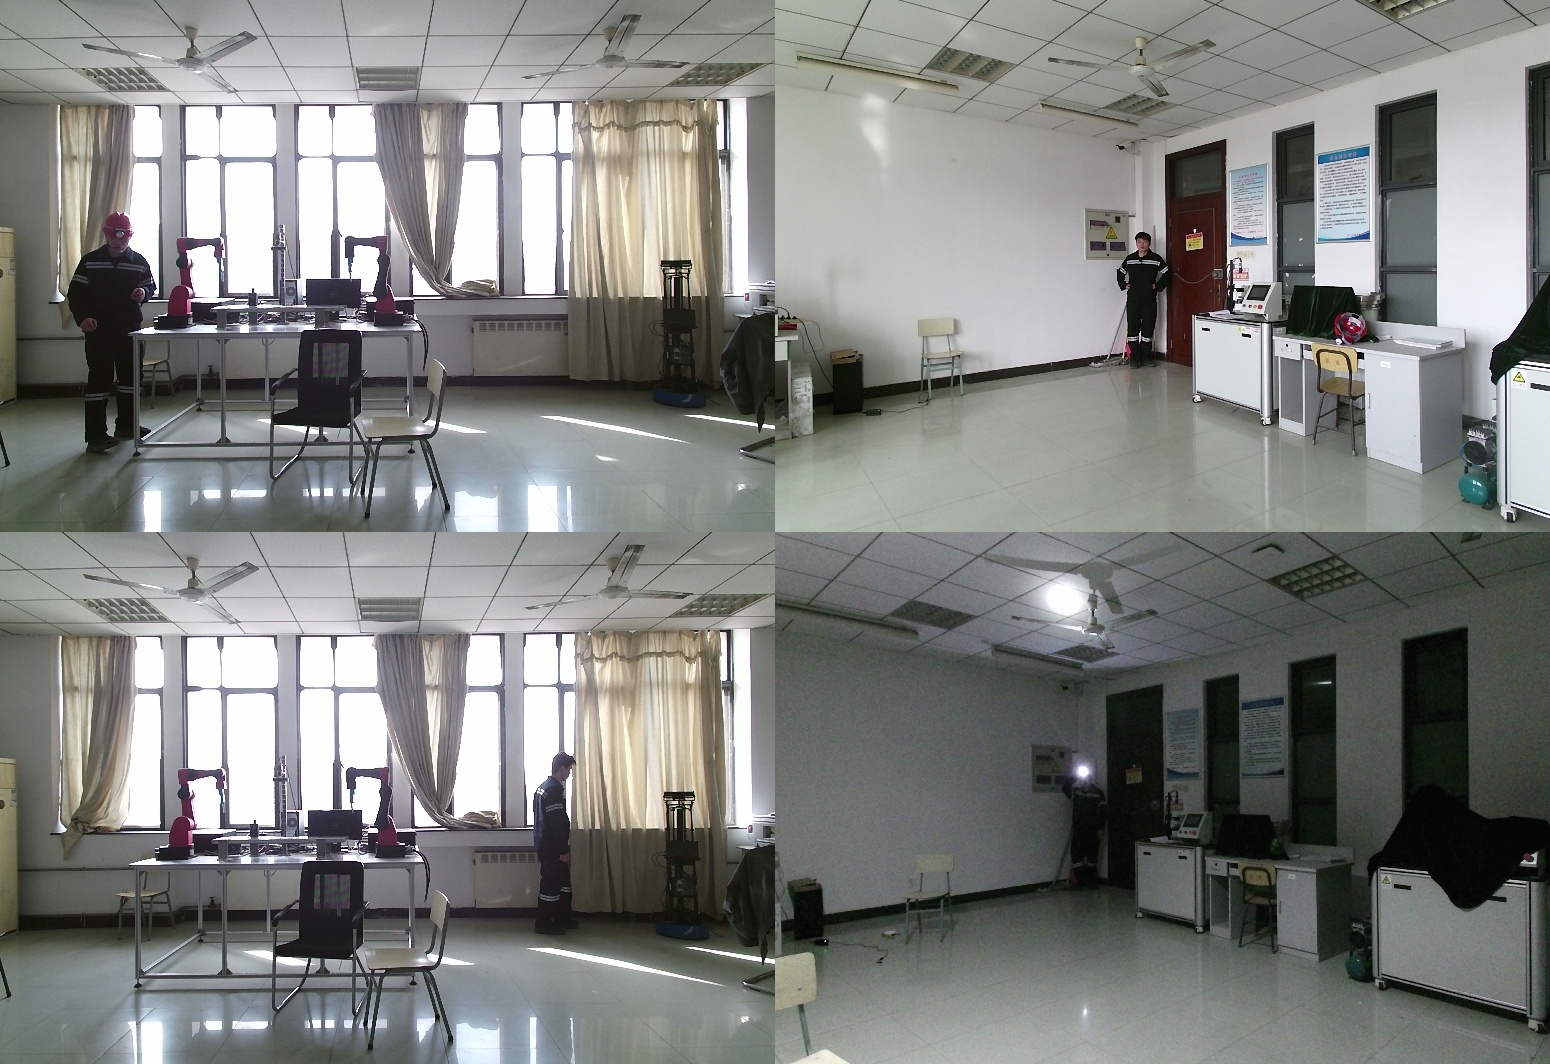person: (61, 212, 159, 452), (535, 758, 602, 941), (1114, 232, 1171, 367), (1061, 765, 1105, 888)
